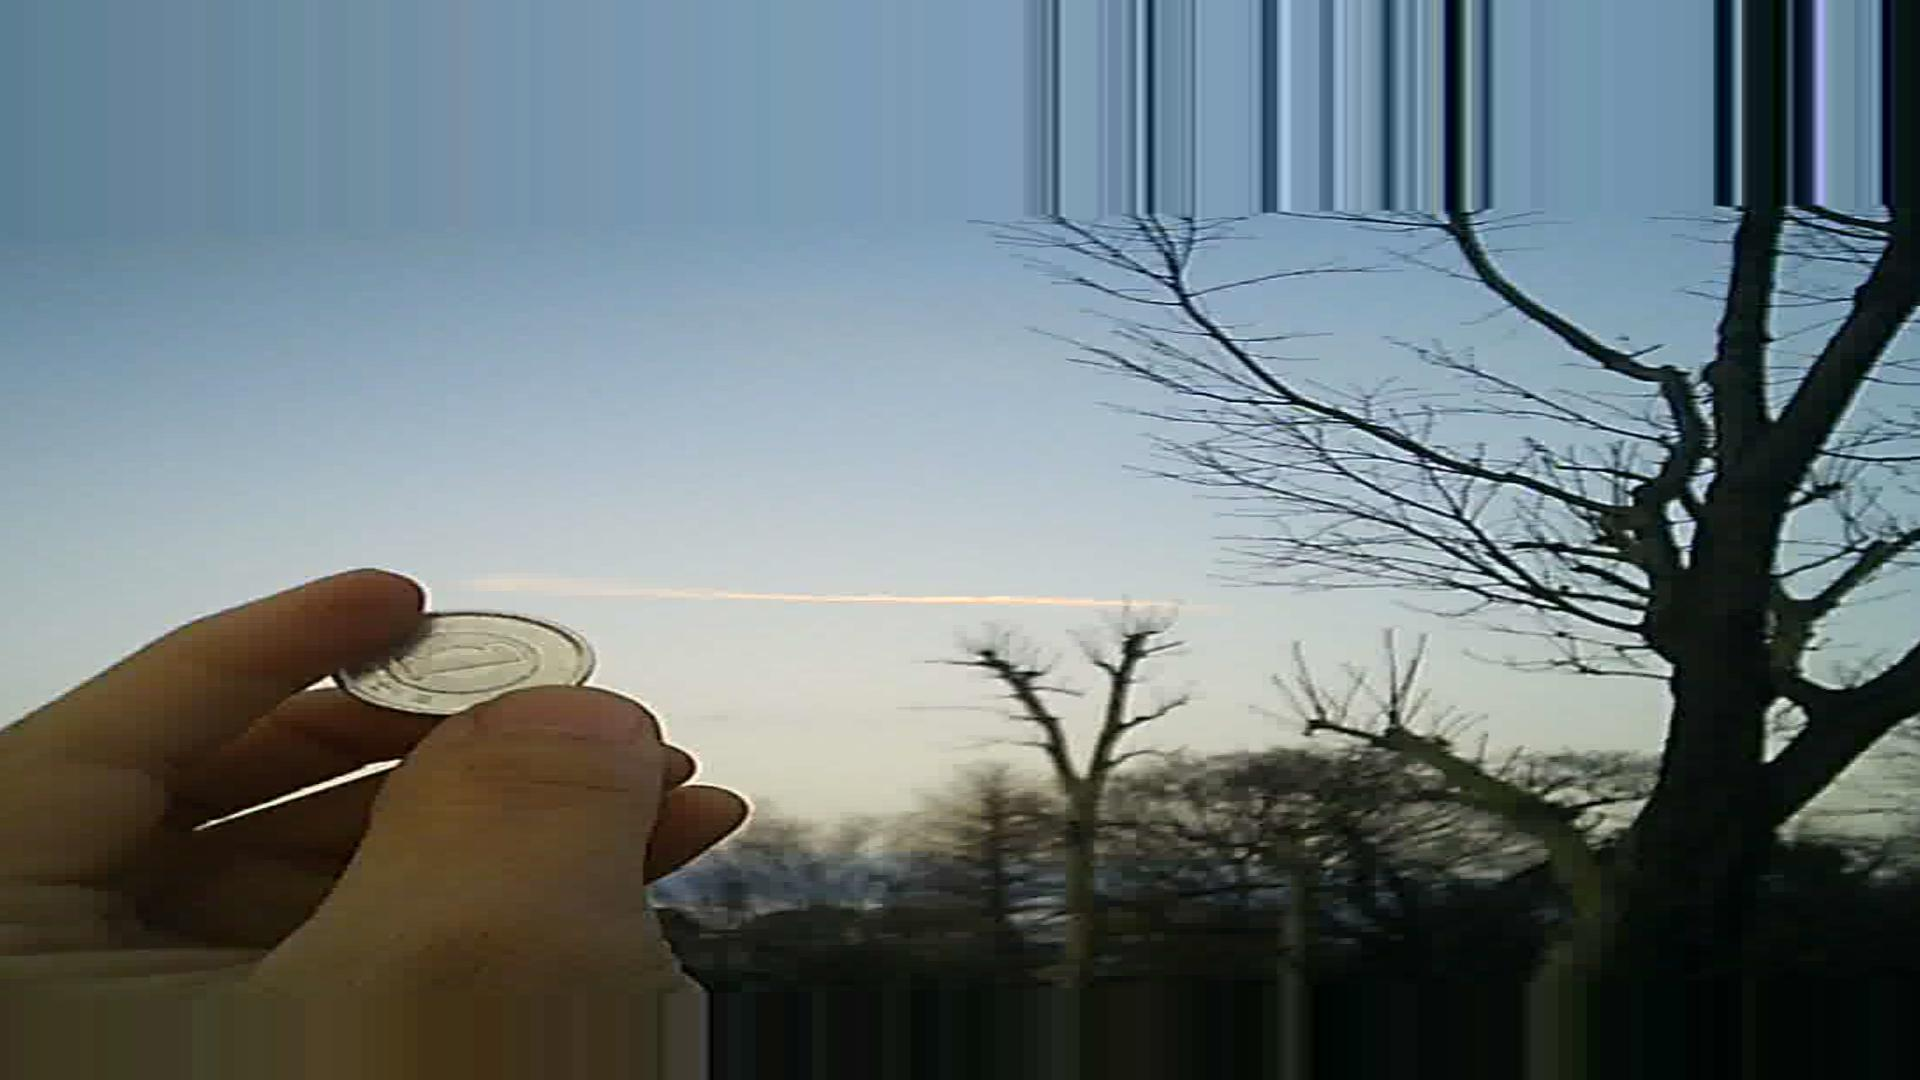1 Yen: (338, 578, 578, 733)
